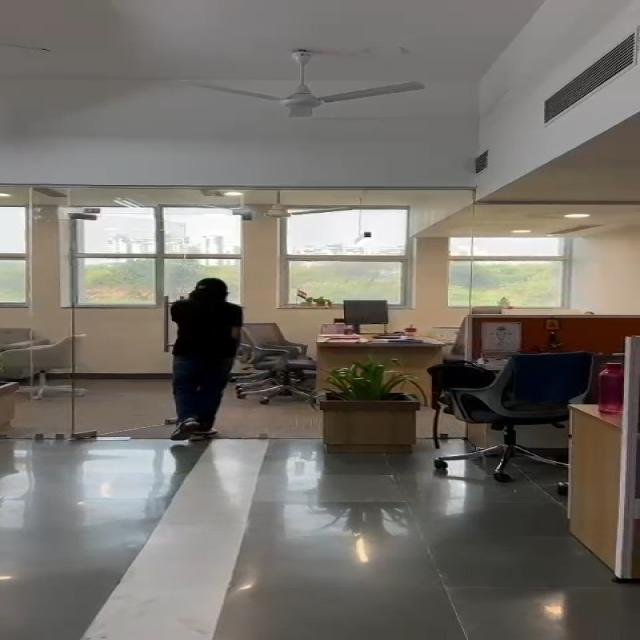floor: (11, 478, 558, 640), (80, 378, 182, 477)
furniture: (464, 352, 586, 482), (315, 355, 424, 474), (232, 307, 326, 410), (0, 306, 80, 426), (326, 284, 392, 353)
moving_object: (174, 280, 272, 452)
wall: (0, 124, 640, 309)
